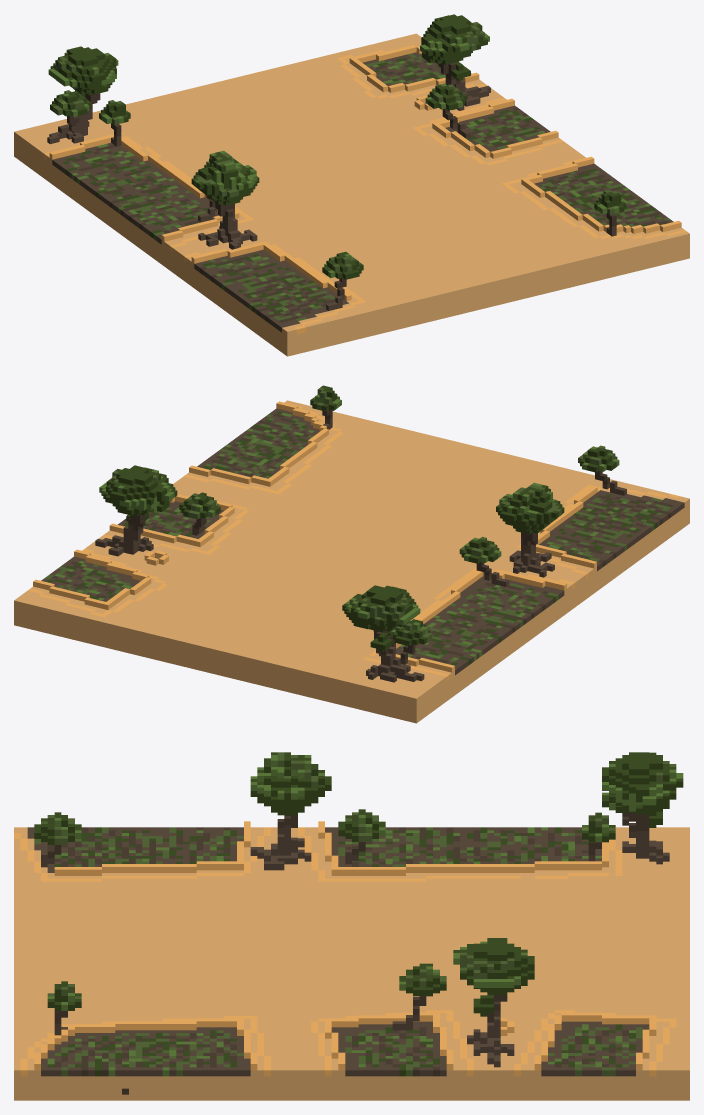
File: map06.obj
The picture shows the model from 3 angles, top to bottom: view 1: azimuth 30°, elevation 25°; view 2: azimuth 150°, elevation 25°; view 3: azimuth 270°, elevation 25°; orthographic projection. The views are drawn at different scales.
Size of the model in its own units: 8.5 by 2.1 by 10.
Materials: 1 (1 with a texture image).
